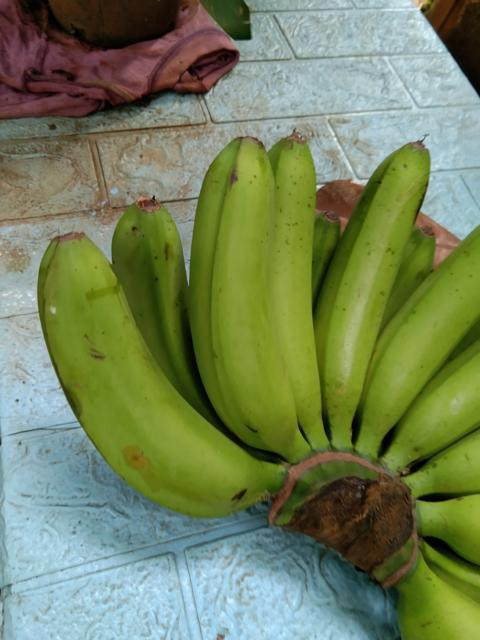freshunripe: (22, 221, 259, 518), (303, 134, 433, 435), (183, 128, 297, 445), (362, 210, 479, 452)
